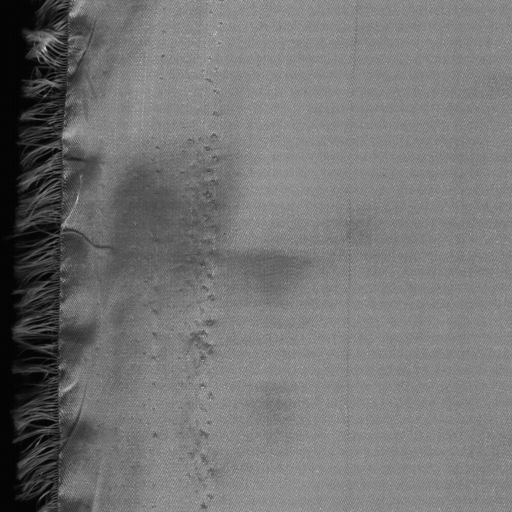defect: (97, 133, 384, 394), (340, 2, 357, 512), (257, 372, 301, 439), (180, 327, 221, 369)
